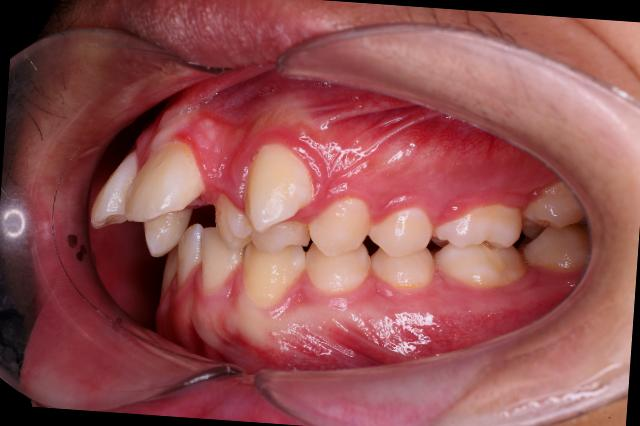molar class II 1/2: (434, 188, 536, 292)
